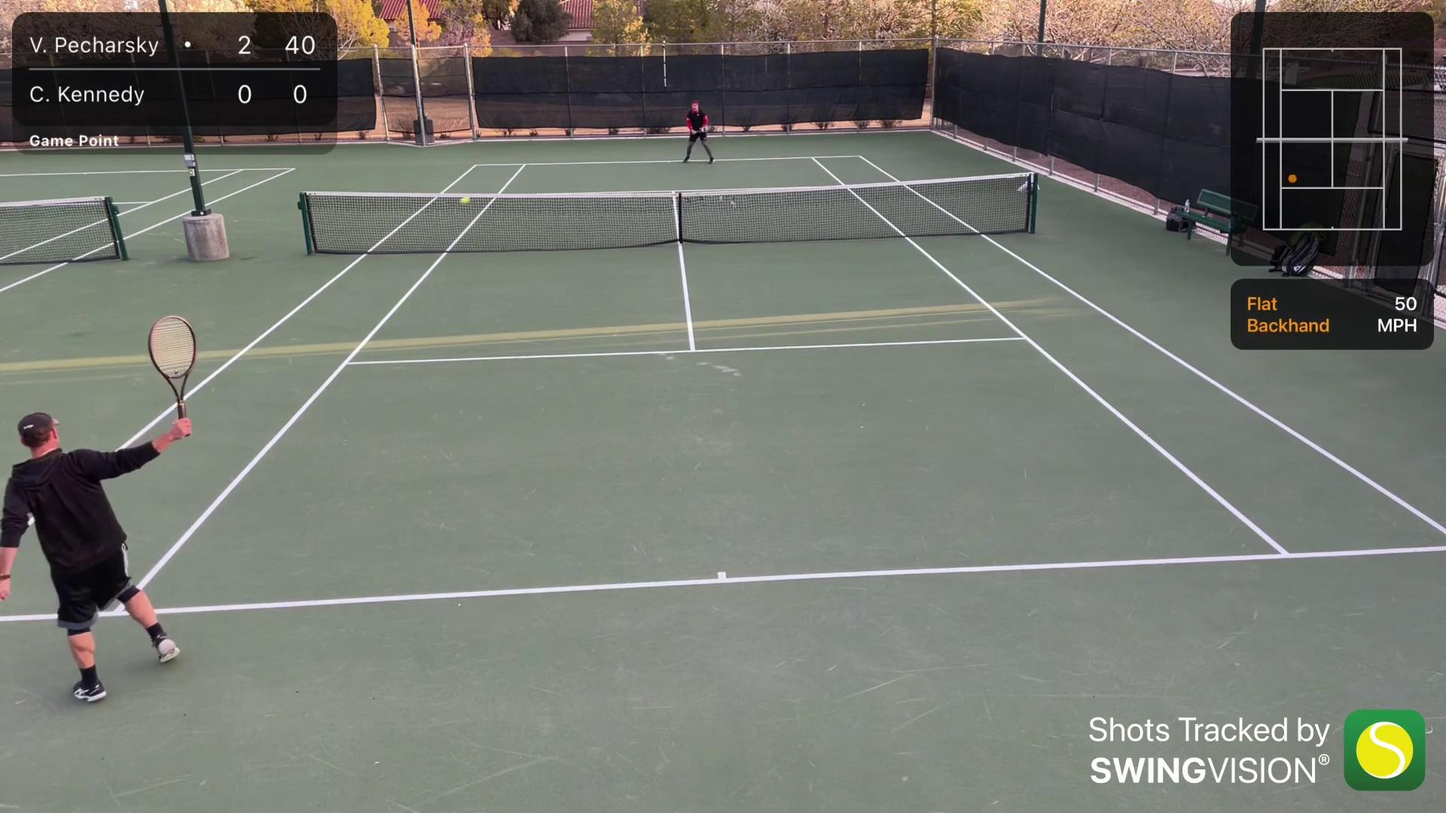ball: (458, 192, 473, 207)
